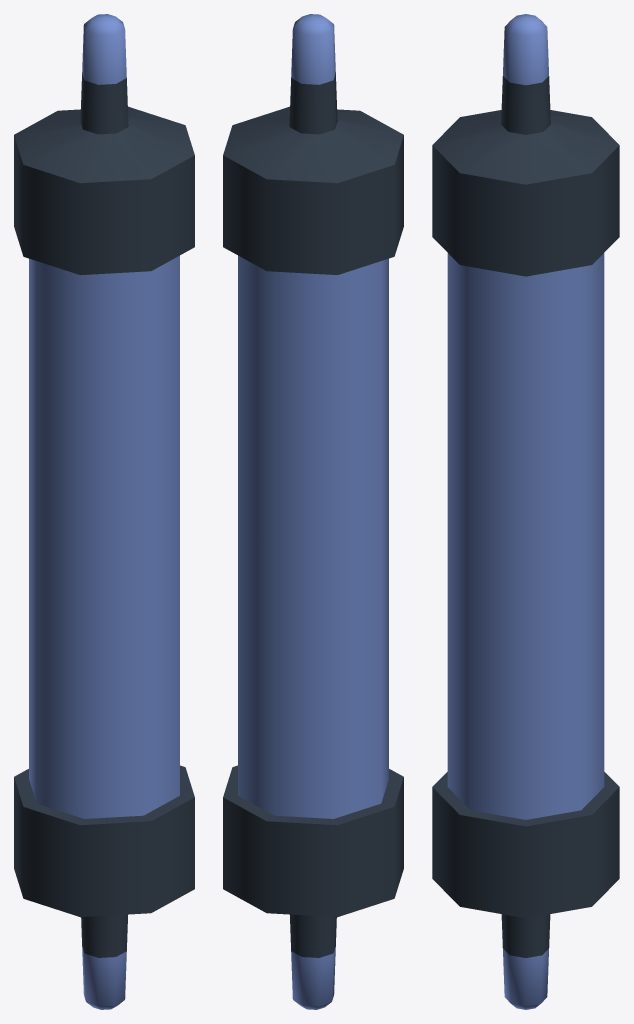
File: Light.fbx
3 renders of one model, left to right at view 1: azimuth 30°, elevation 25°; view 2: azimuth 150°, elevation 25°; view 3: azimuth 270°, elevation 25°, orthographic.
Parts seen in each view (by area): view 1: Light; view 2: Light; view 3: Light.
Boxes of the visible parts, x1=… form: Light: x1=14, y1=14, x2=194, y2=1009; Light: x1=223, y1=14, x2=403, y2=1009; Light: x1=432, y1=14, x2=619, y2=1009.
Bounding box in the file's own units: 16.94 × 98.85 × 16.94.
